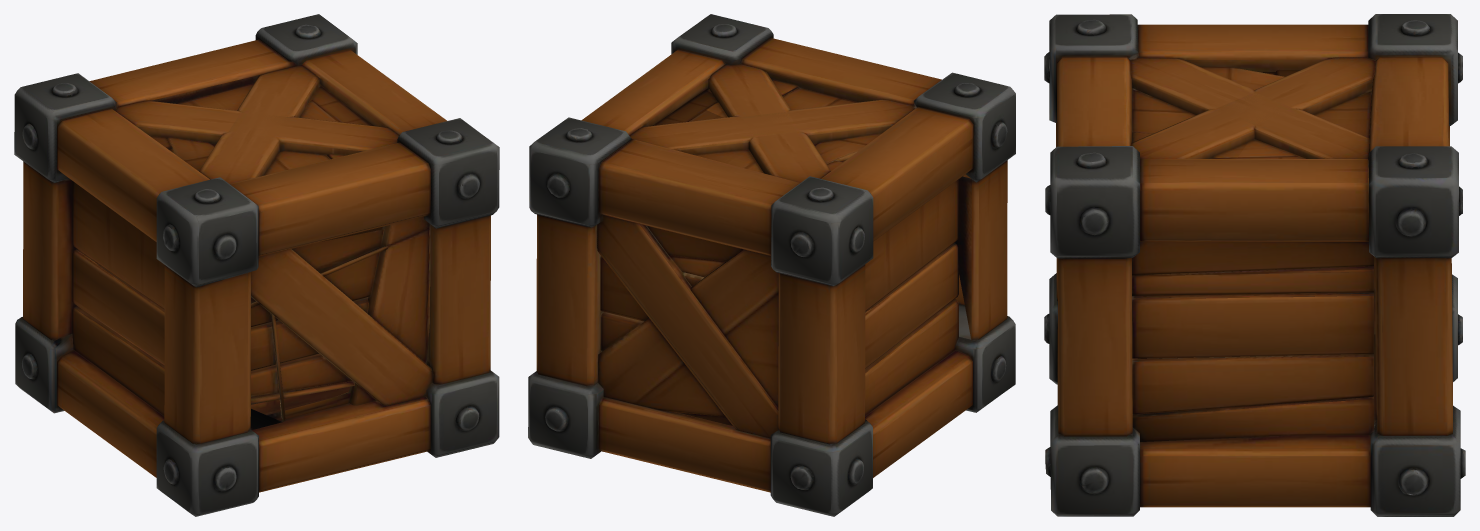
Rendered from selected.glb.
The picture shows the model from 3 angles, left to right: view 1: azimuth 30°, elevation 25°; view 2: azimuth 150°, elevation 25°; view 3: azimuth 270°, elevation 25°; orthographic projection. The views are drawn at different scales.
Visible parts, largest first — view 1: tripo_node_e34bab9b-61f7-44bc-9a7a-6a1c5172e660; view 2: tripo_node_e34bab9b-61f7-44bc-9a7a-6a1c5172e660; view 3: tripo_node_e34bab9b-61f7-44bc-9a7a-6a1c5172e660.
Boxes of the visible parts, x1,y1,x2,y2 form: tripo_node_e34bab9b-61f7-44bc-9a7a-6a1c5172e660: [14, 14, 499, 516]; tripo_node_e34bab9b-61f7-44bc-9a7a-6a1c5172e660: [528, 14, 1015, 516]; tripo_node_e34bab9b-61f7-44bc-9a7a-6a1c5172e660: [1044, 14, 1465, 516].
Size of the model in its own units: 0.9785 by 0.9121 by 0.998.
Materials: 1 (1 with a texture image).
